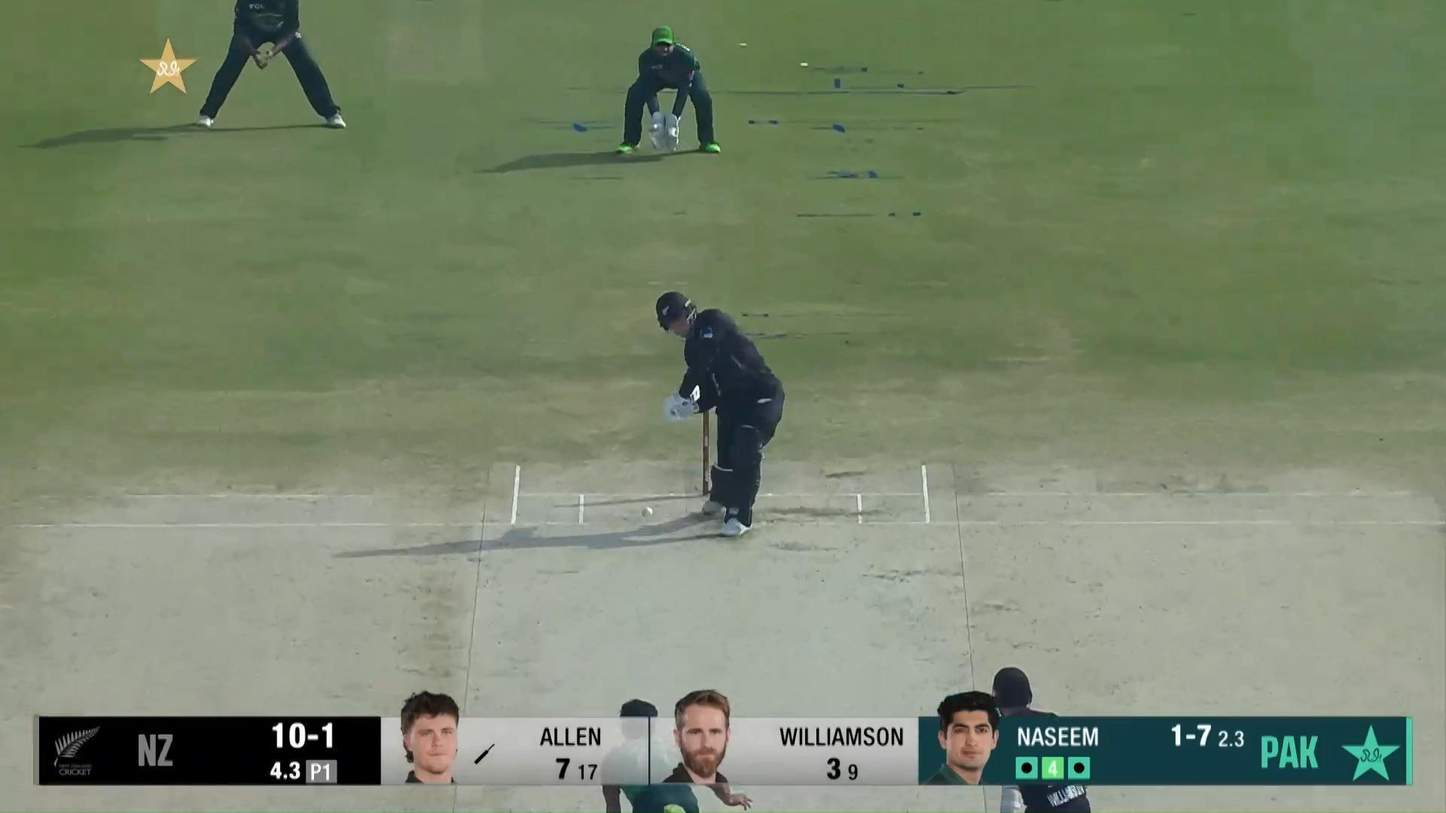BM 1: (656, 291, 786, 537)
BO: (601, 697, 754, 813)
